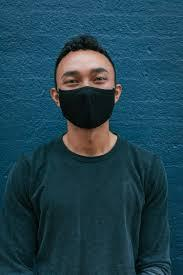mask: (55, 83, 117, 131)
